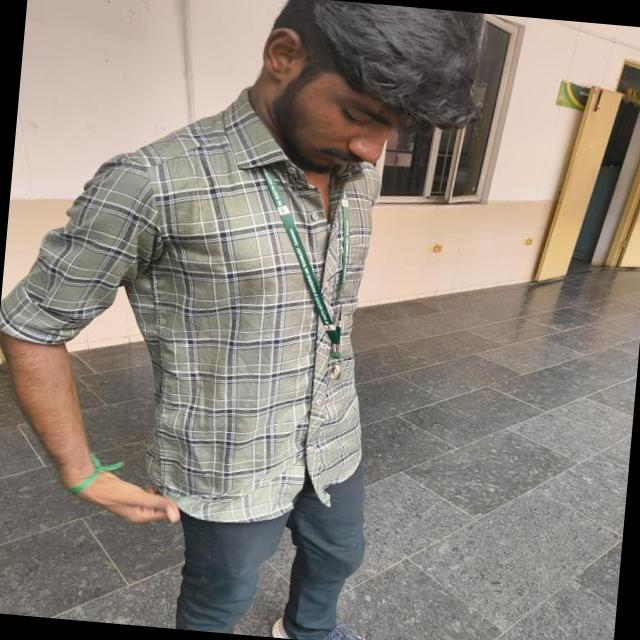id_card: (244, 157, 366, 392)
